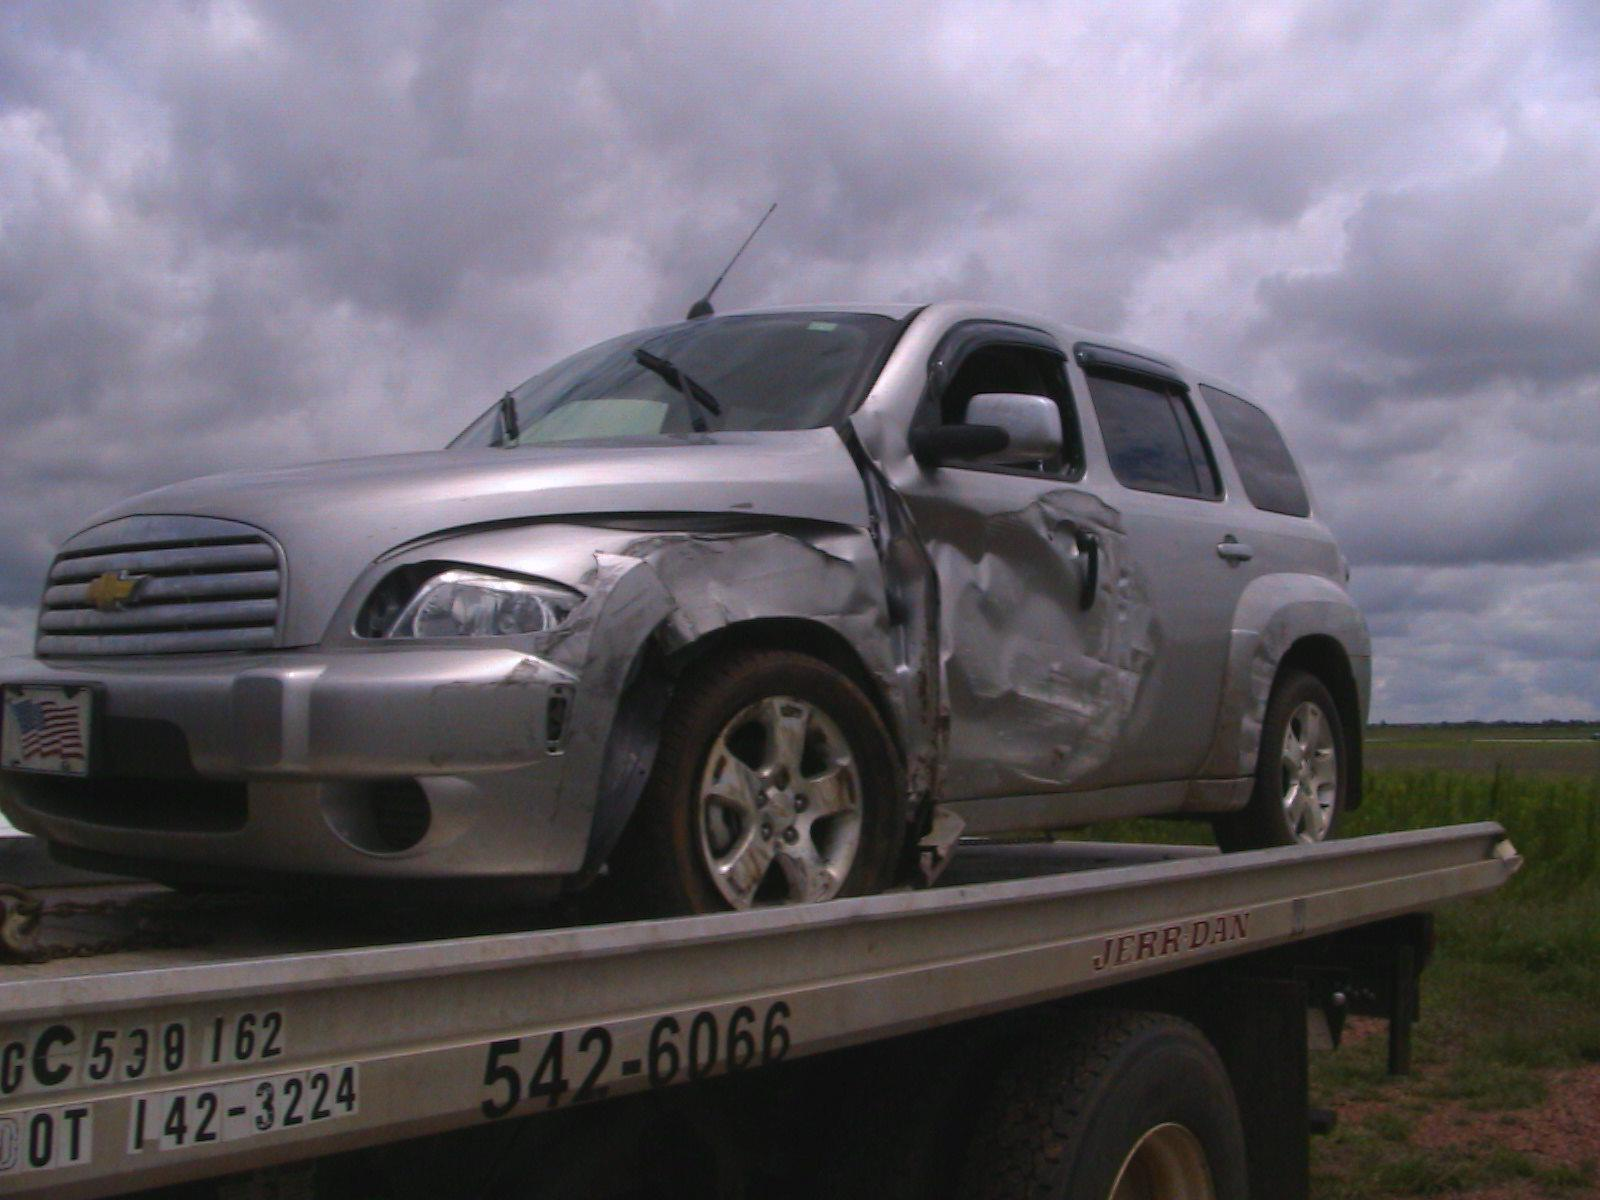doorouter-dent: (898, 460, 1150, 787)
fender-dent: (365, 473, 881, 663)
